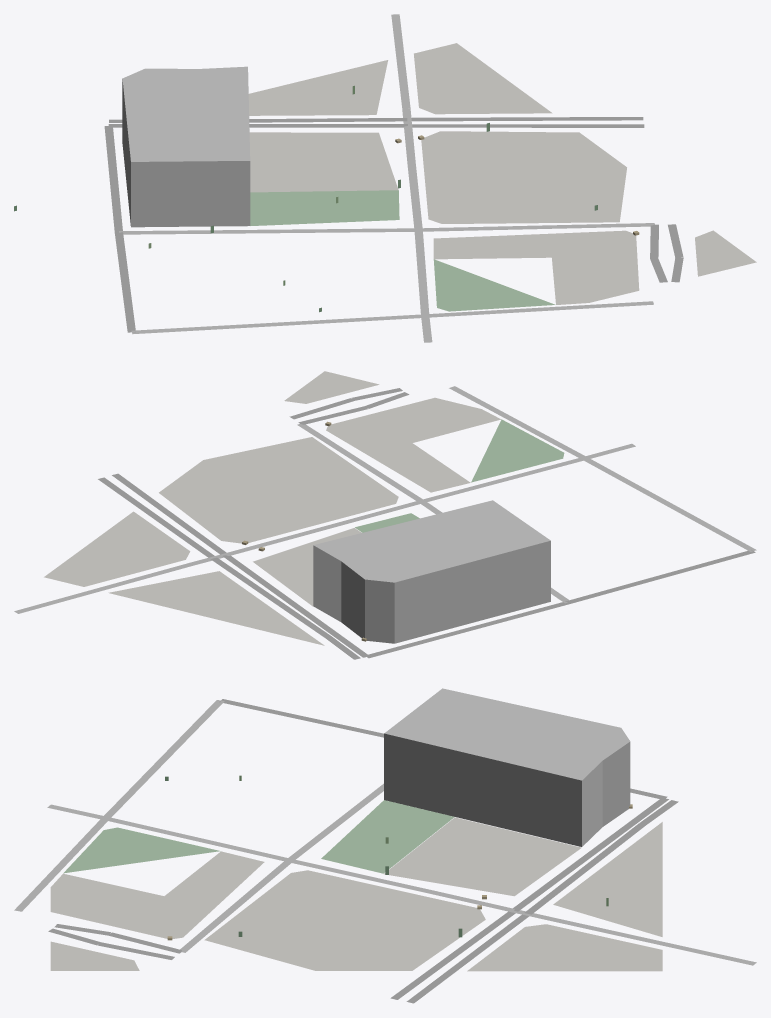
3 renders of one model, top to bottom at view 1: azimuth 30°, elevation 25°; view 2: azimuth 150°, elevation 25°; view 3: azimuth 270°, elevation 25°, orthographic. The views are drawn at different scales.
Size of the model in its own units: 586 by 61.25 by 607.
